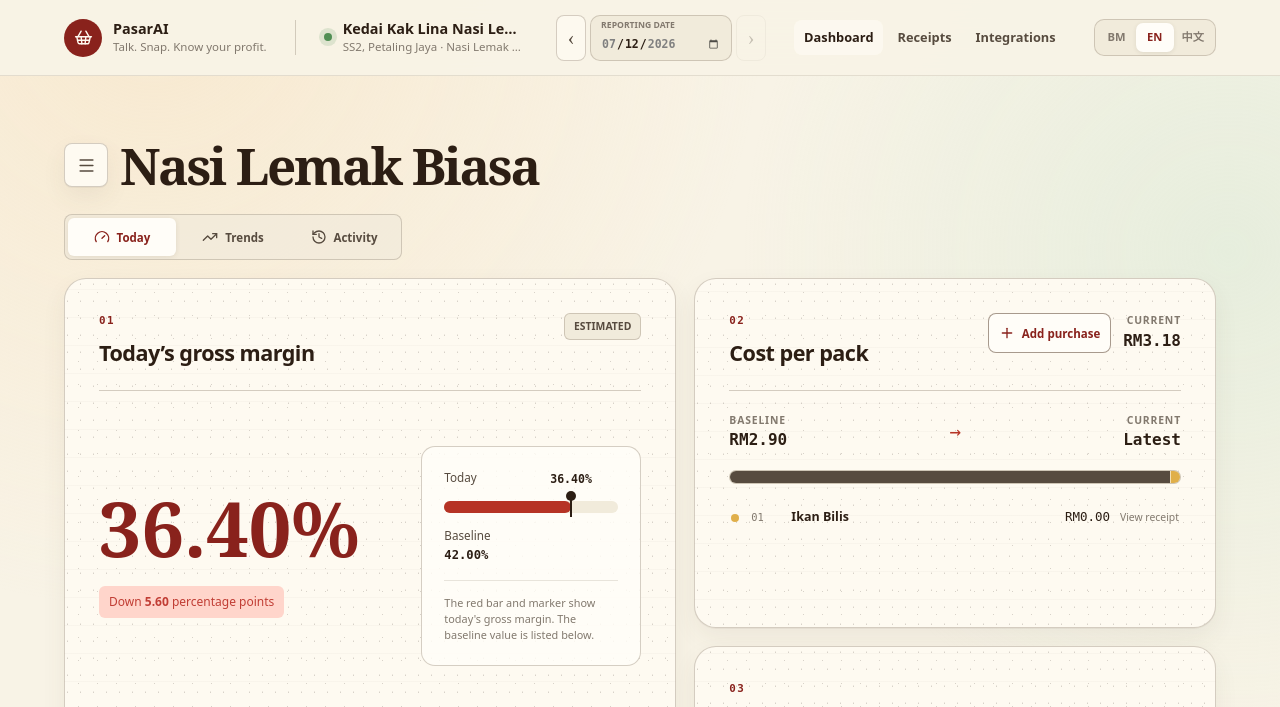
Test: merchant dashboard › never substitutes another receipt line when the clicked item is missing
Click the button with aria-label "View evidence for Ikan Bilis": (820, 517) x1=729 y1=498 x2=1181 y2=537
(page scrolled)
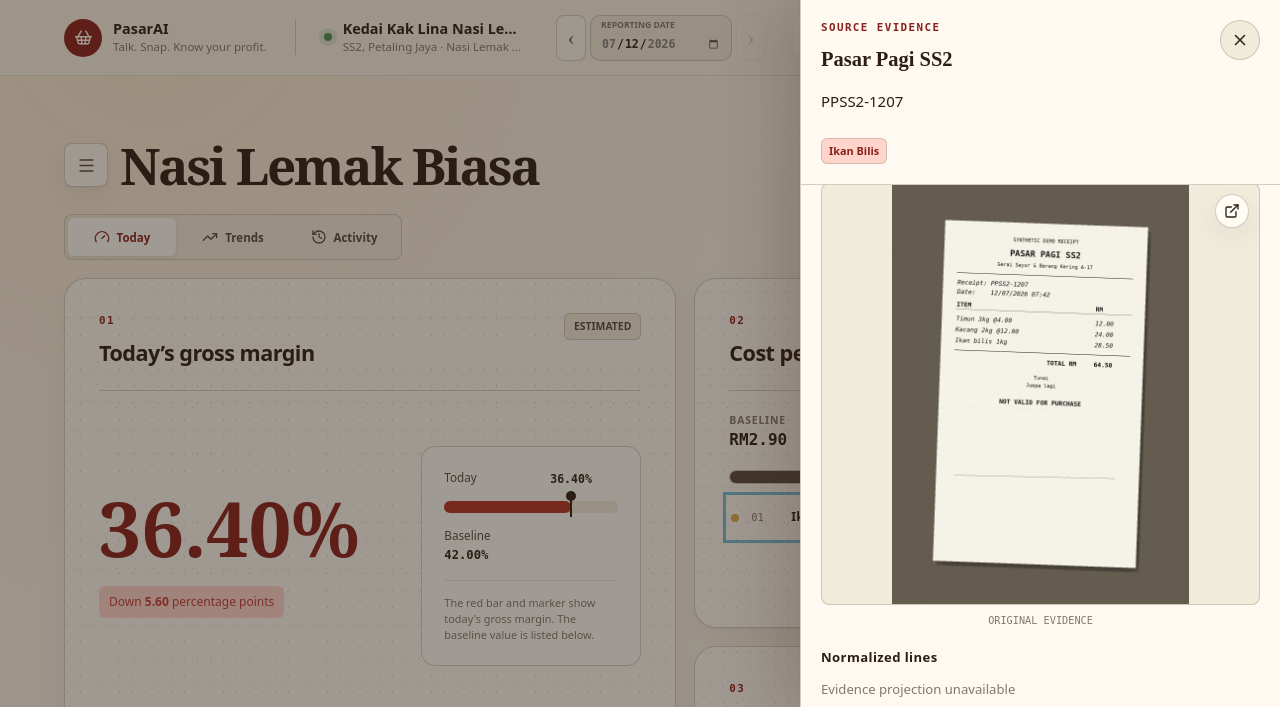
Now the text "Evidence projection unavailable" is shown, box x1=821 y1=680 x2=1015 y2=698
